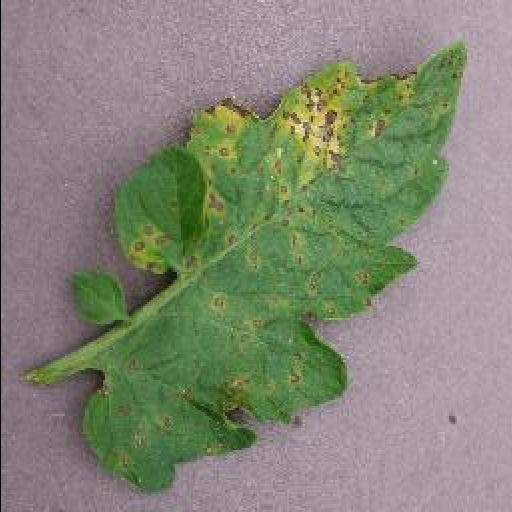disease_tomato: (81, 42, 463, 496)
